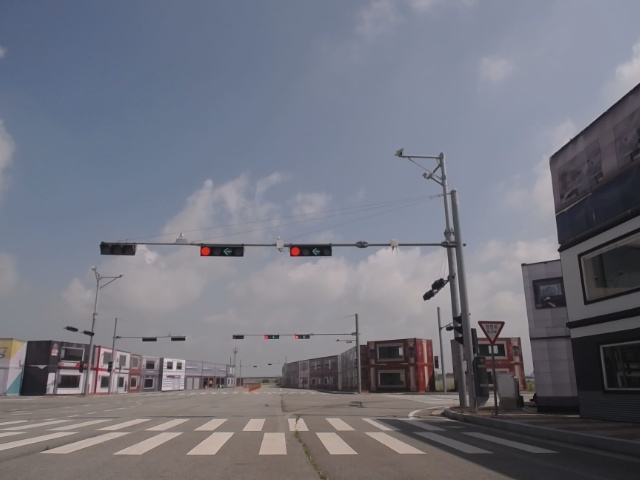left_green_4: (200, 245, 244, 257), (289, 244, 332, 256)
